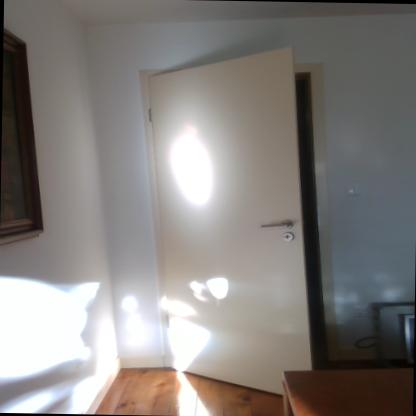semi: (129, 42, 336, 381)
